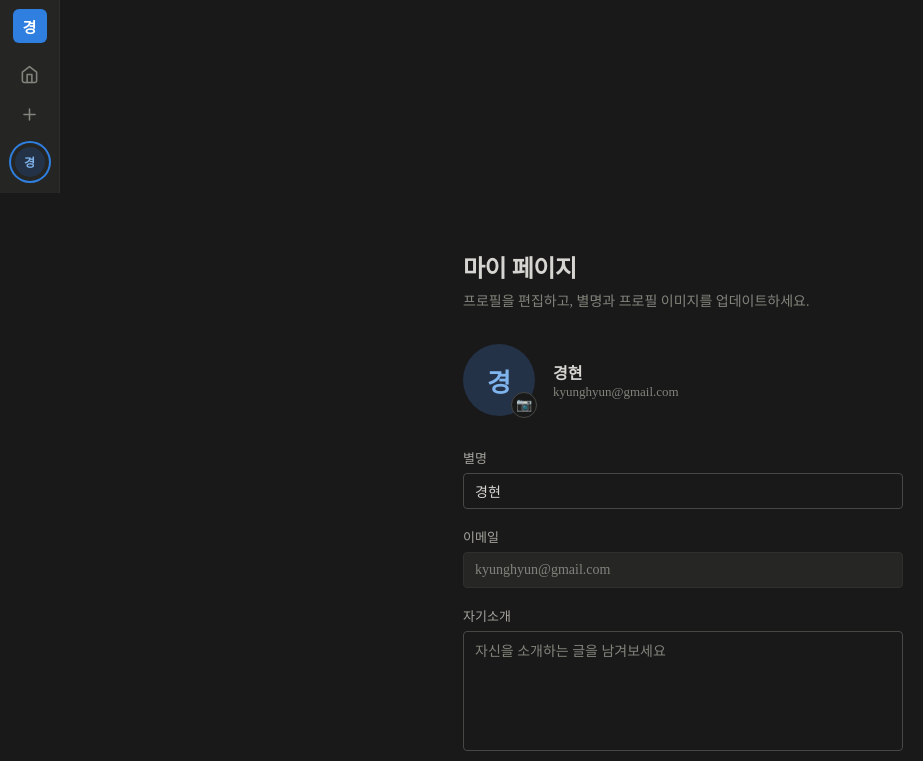
Scenario: 마이페이지 자기소개 — 저장 실패 (US3) › 저장이 실패하면 오류 안내를 표시하고 입력 내용을 유지한다
Type "지키고 싶은 소개" into the text box with placeholder "자신을 소개하는 글을 남겨보세요" at (683, 691), box top-left (463, 631), bottom-right (903, 751)
(page scrolled)
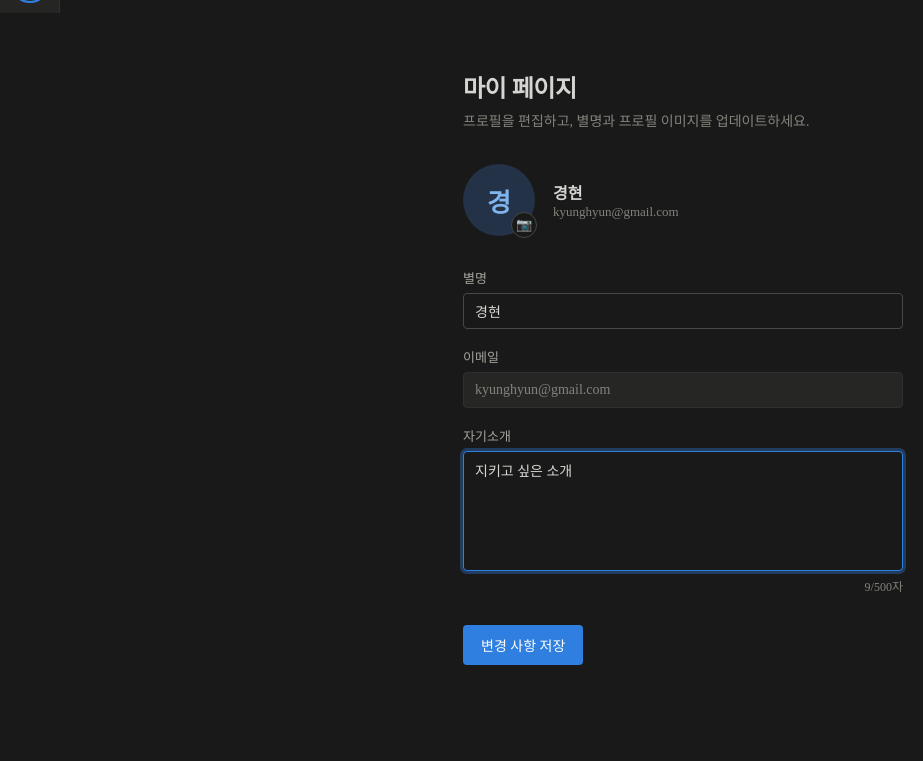
Click the button "변경 사항 저장" at (523, 645), box top-left (463, 625), bottom-right (583, 665)
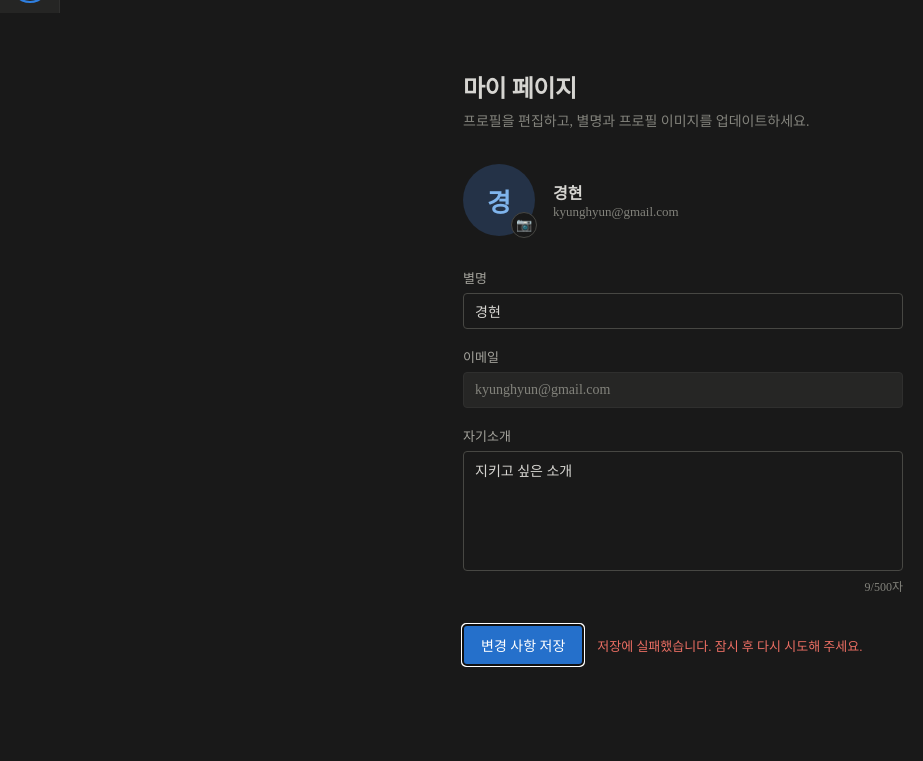
Expected: the text "저장에 실패했습니다. 잠시 후 다시 시도해 주세요." is shown, top-left (597, 636), bottom-right (862, 654)
